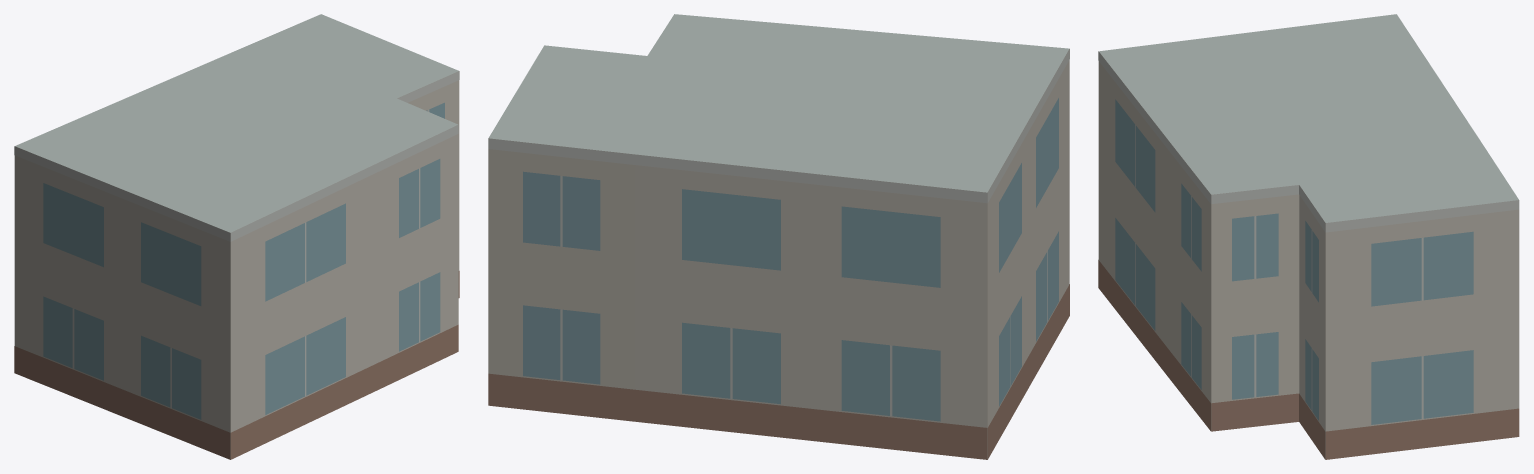
Rendered from survey-upis-33005566.glb.
3 renders of one model, left to right at view 1: azimuth 30°, elevation 25°; view 2: azimuth 150°, elevation 25°; view 3: azimuth 270°, elevation 25°, orthographic. The views are drawn at different scales.
Parts seen in each view (by area): view 1: survey-upis-33005566.tmp; view 2: survey-upis-33005566.tmp; view 3: survey-upis-33005566.tmp.
Boxes of the visible parts, x1,y1,x2,y2 form: survey-upis-33005566.tmp: (14, 14, 459, 459); survey-upis-33005566.tmp: (488, 14, 1069, 459); survey-upis-33005566.tmp: (1098, 14, 1519, 459).
Size of the model in its own units: 11.56 by 6.1 by 9.83.
